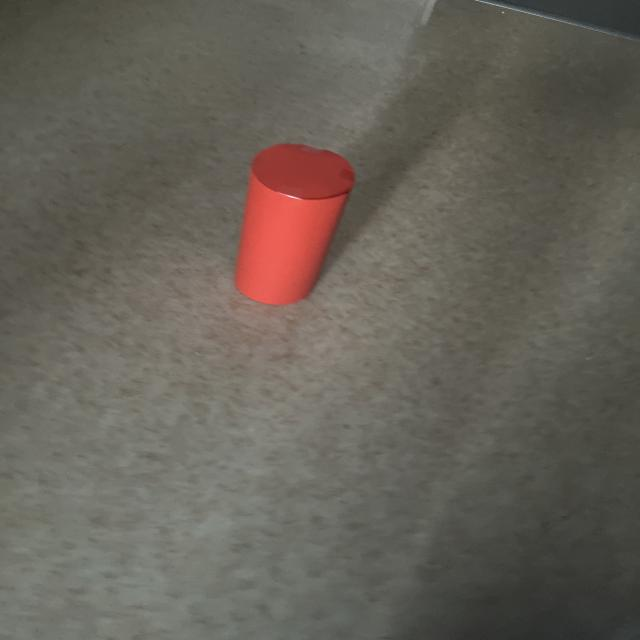przeszkoda: (235, 144, 355, 305)
